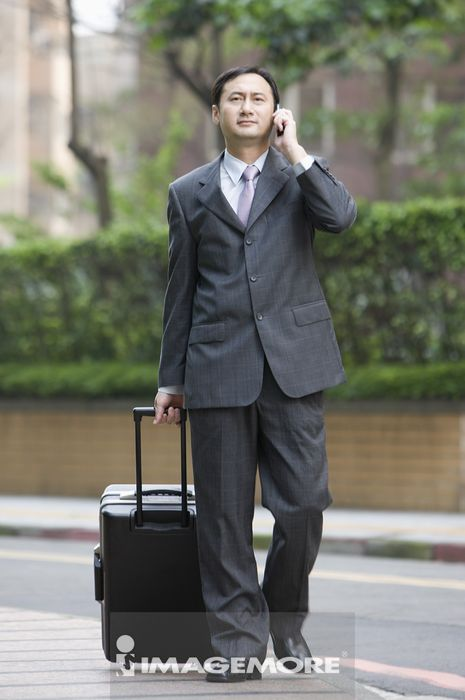phone: (275, 103, 282, 136)
talk: (225, 89, 297, 154)
